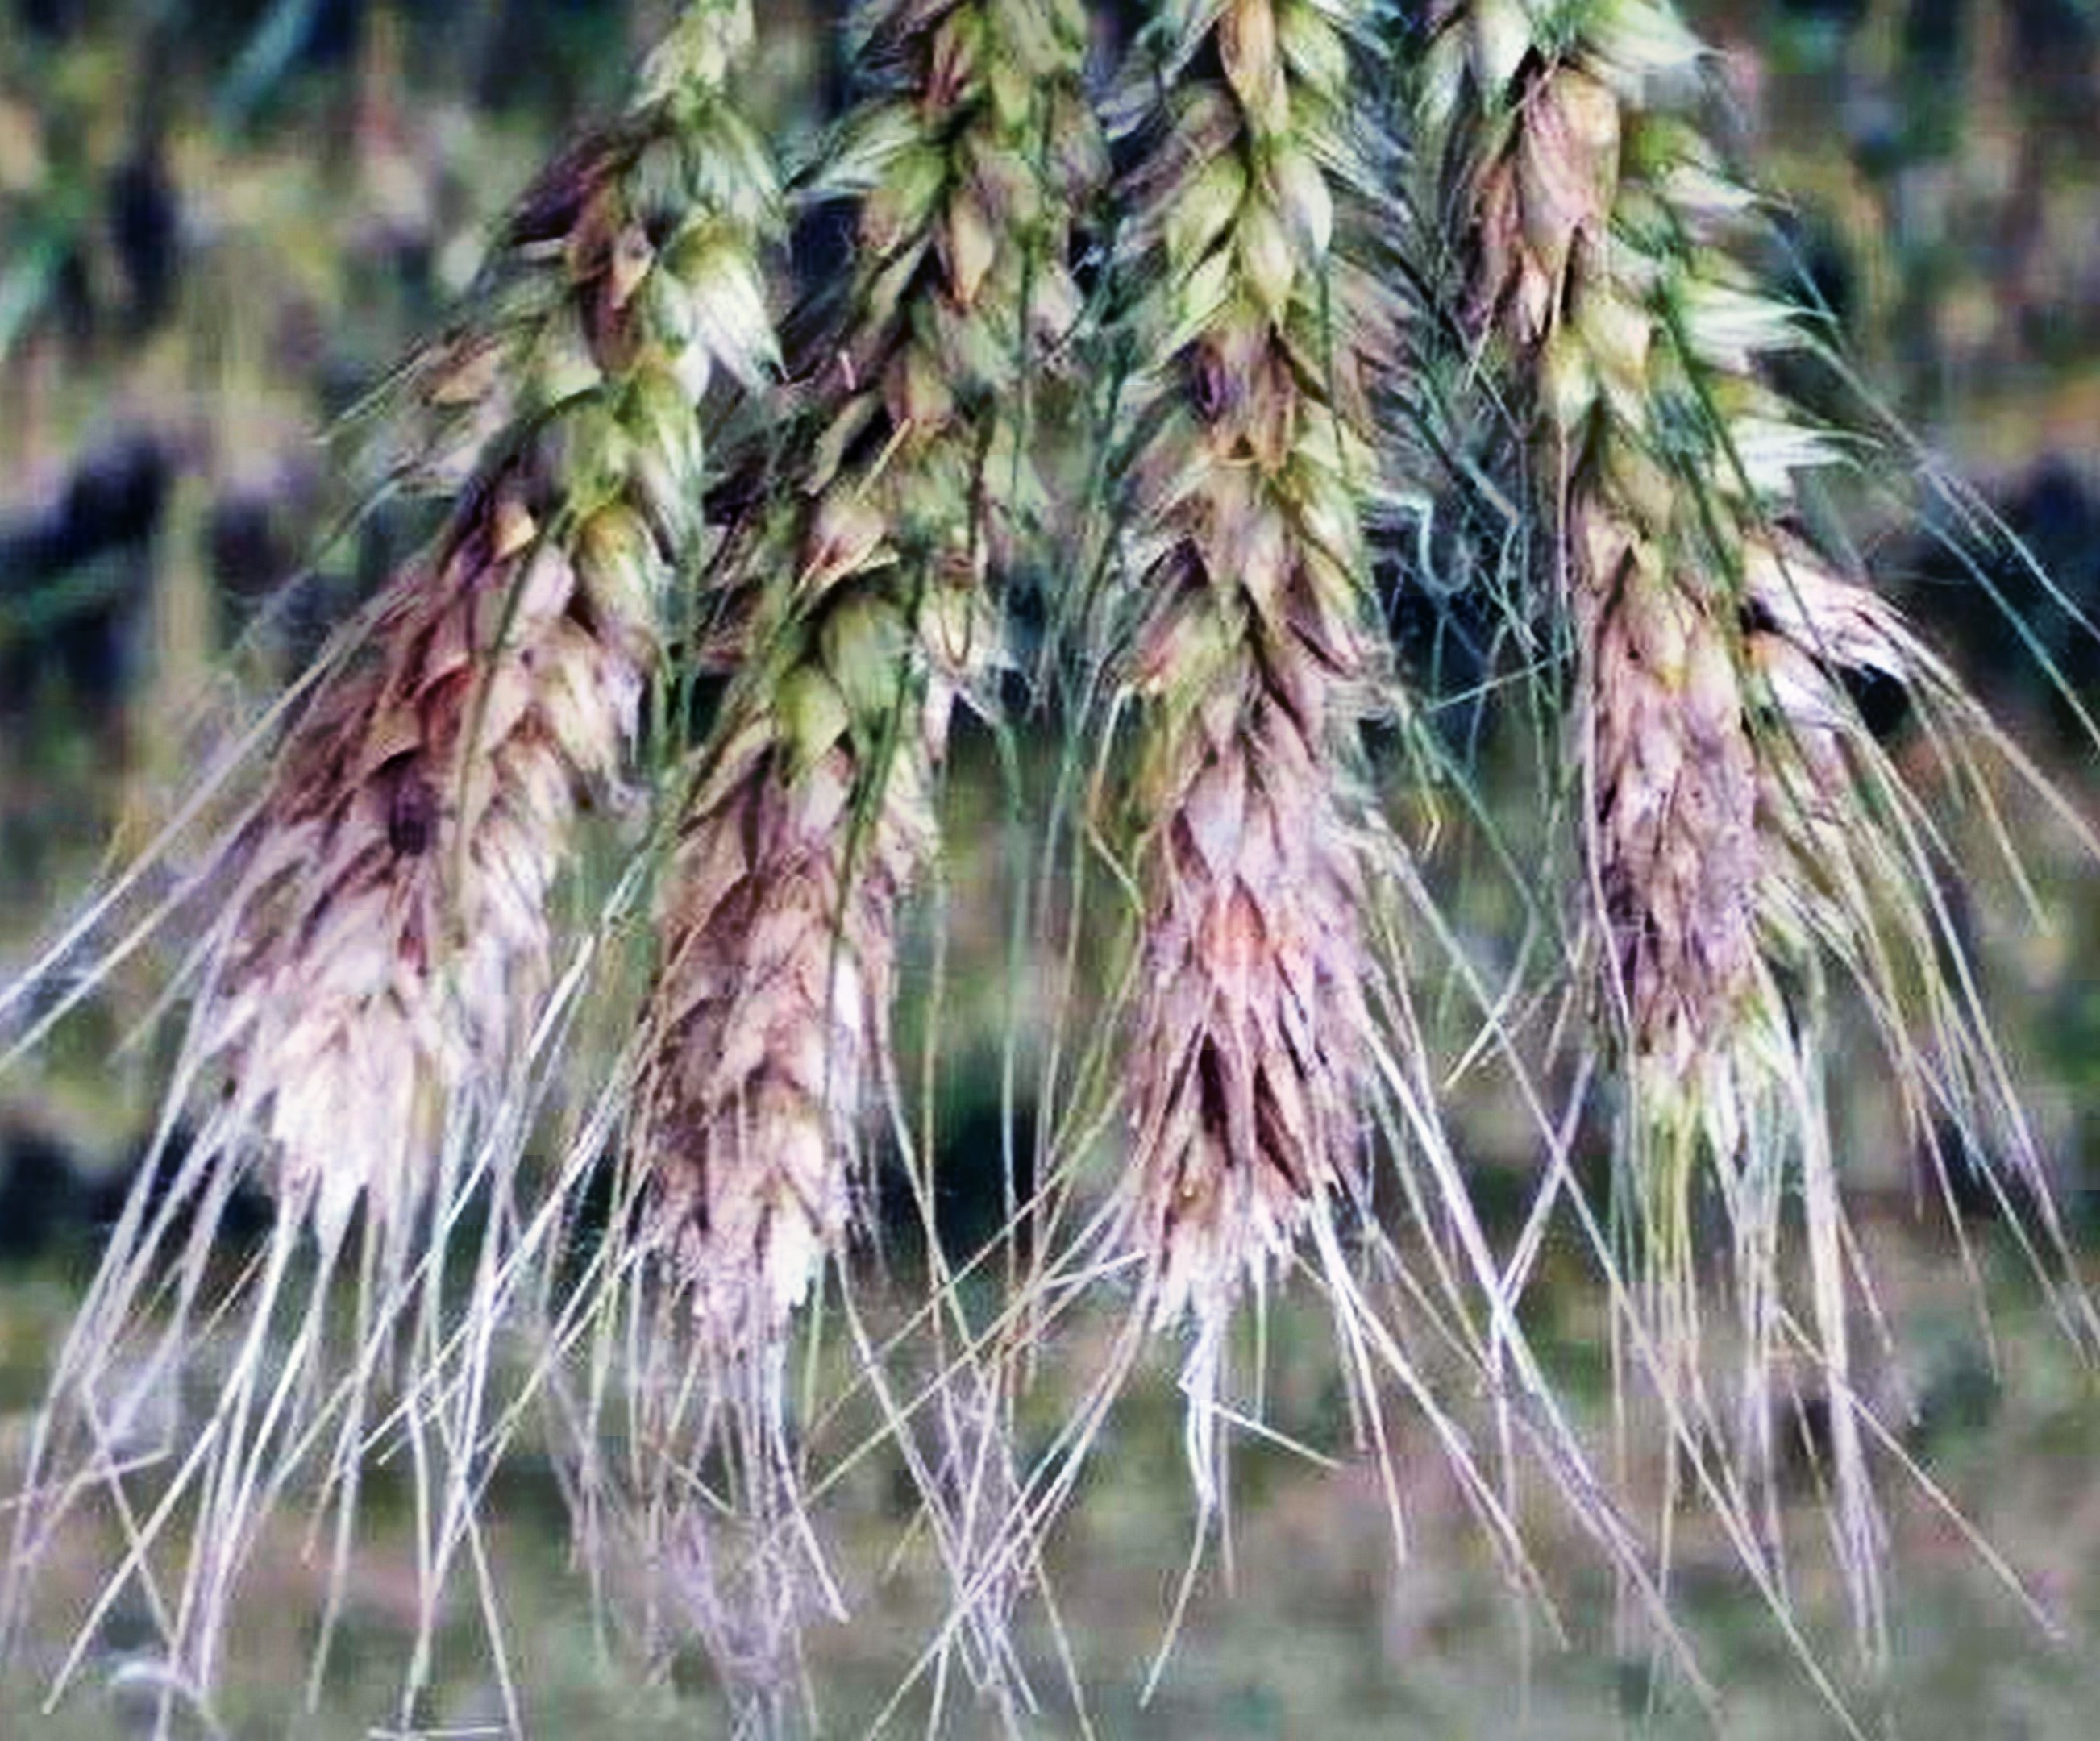Wheat scab: (127, 68, 980, 1296), (1069, 19, 1411, 1411), (1453, 26, 1898, 1083)
